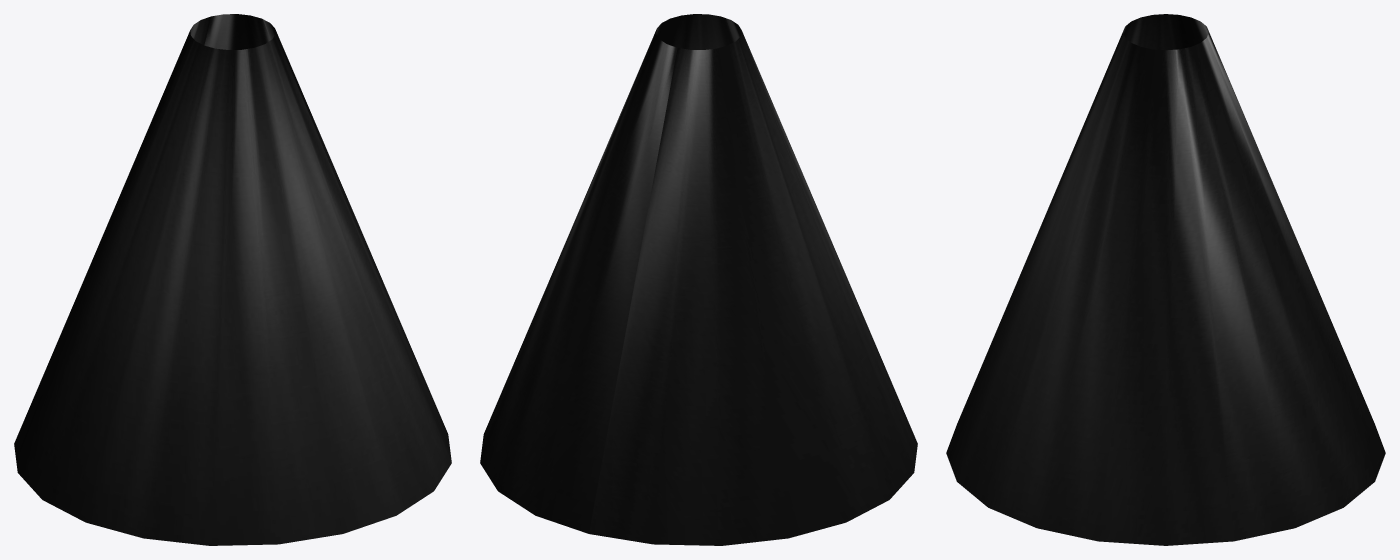
Rendered from cone_light.fbx.
The picture shows the model from 3 angles, left to right: view 1: azimuth 30°, elevation 25°; view 2: azimuth 150°, elevation 25°; view 3: azimuth 270°, elevation 25°; orthographic projection.
Parts seen in each view (by area): view 1: Cone_Light; view 2: Cone_Light; view 3: Cone_Light.
Boxes of the visible parts, x1,y1,x2,y2 form: Cone_Light: (14,14,451,545); Cone_Light: (480,14,917,545); Cone_Light: (946,14,1385,545).
Size of the model in its own units: 282 by 297 by 282.
Materials: 1 (1 with a texture image).
